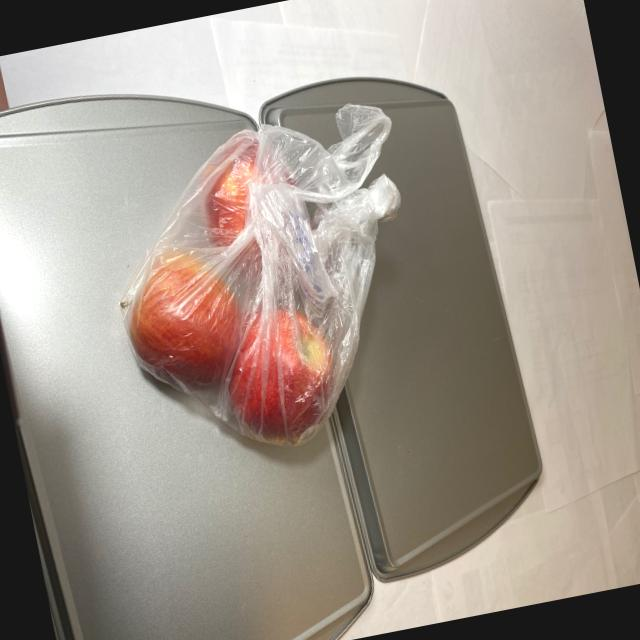apple: (88, 120, 352, 483)
